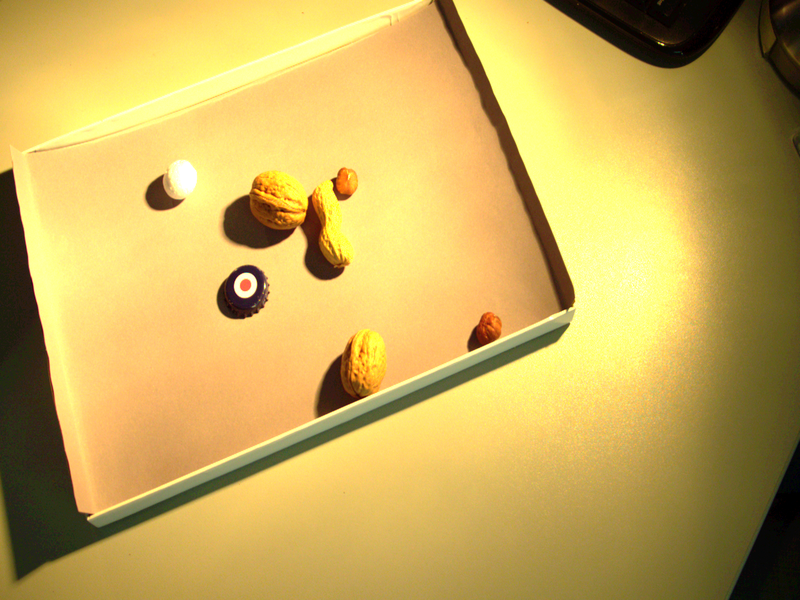walnut: (332, 325, 403, 410), (242, 165, 313, 234)
